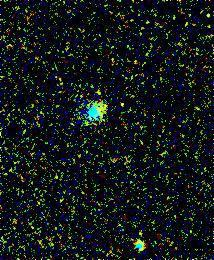star: (82, 76, 112, 106)
